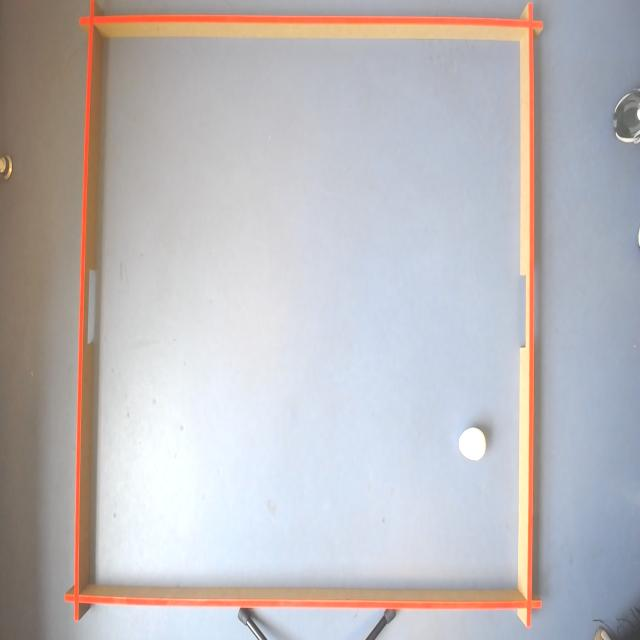egg: (458, 426, 487, 463)
